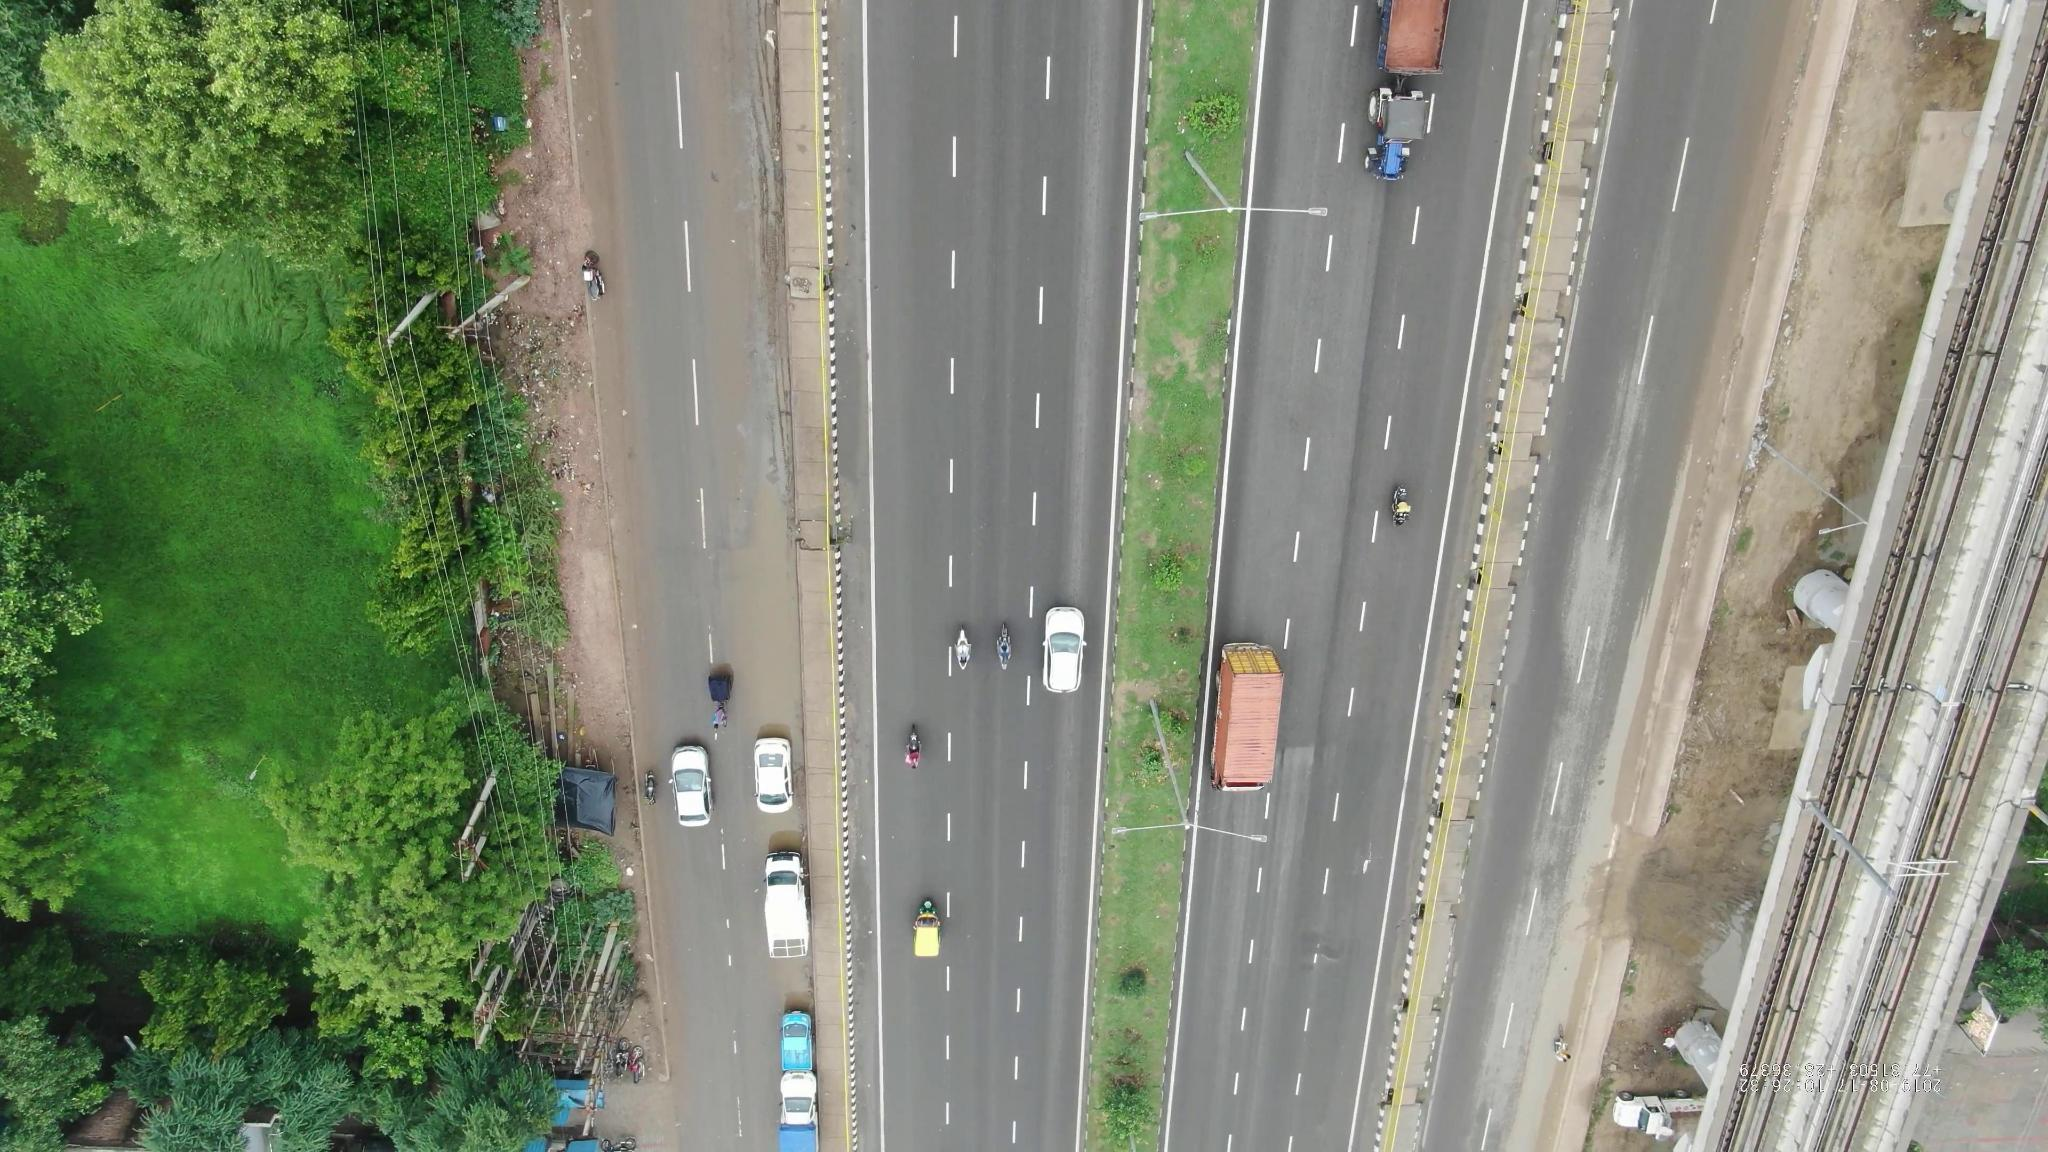Muddy_road: (717, 30, 793, 350)
Waterlogging: (724, 482, 807, 722)
